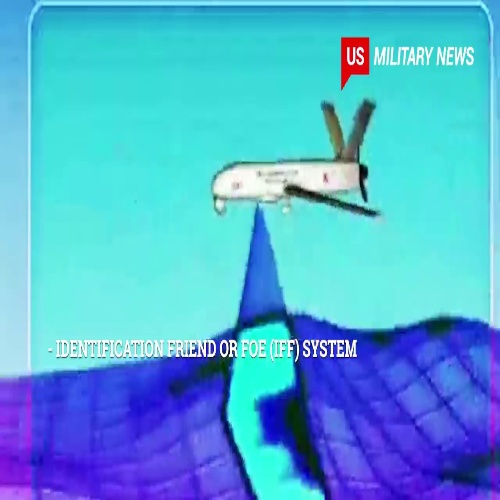uav: (205, 97, 387, 221)
